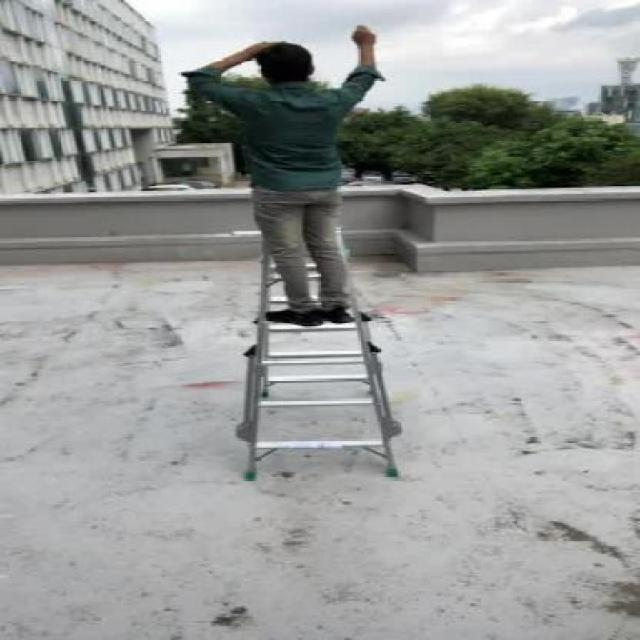hard hat: (220, 220, 418, 492)
vest: (179, 18, 399, 326)
